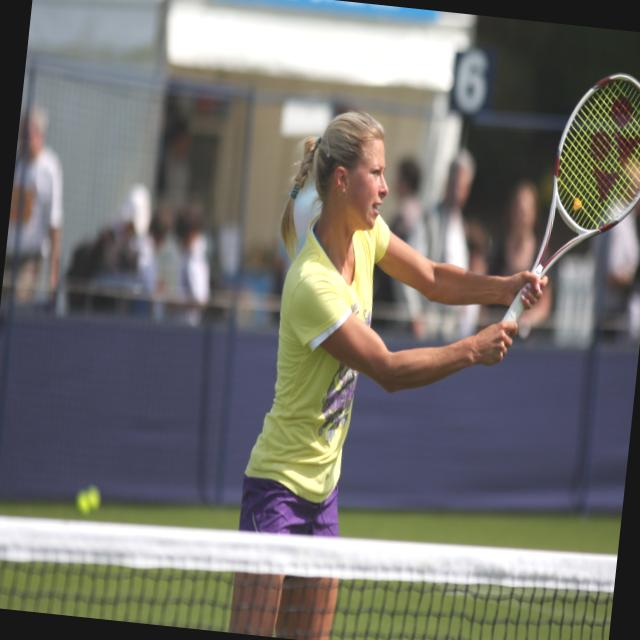Tennis Ball: (83, 484, 100, 509)
